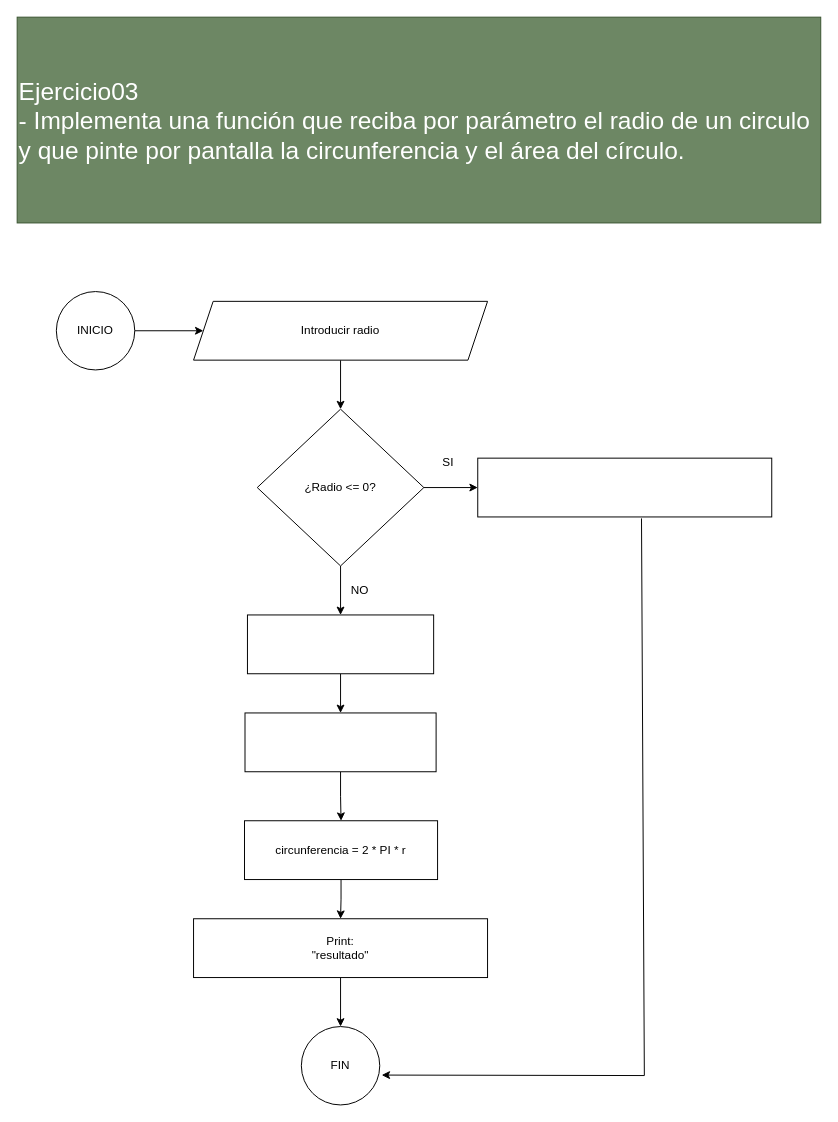
The diagram is 838 pixels wide and 1122 high, and some of its shapes have lost their labels. Here are the shapes that lost their labels. From the top down, the centre of each, then its label:
[624,487]: Print: "Introducir número válido y mayor que cero"
[340,644]: const PI = Math.PI
[340,742]: área = PI * (radio*radio)
